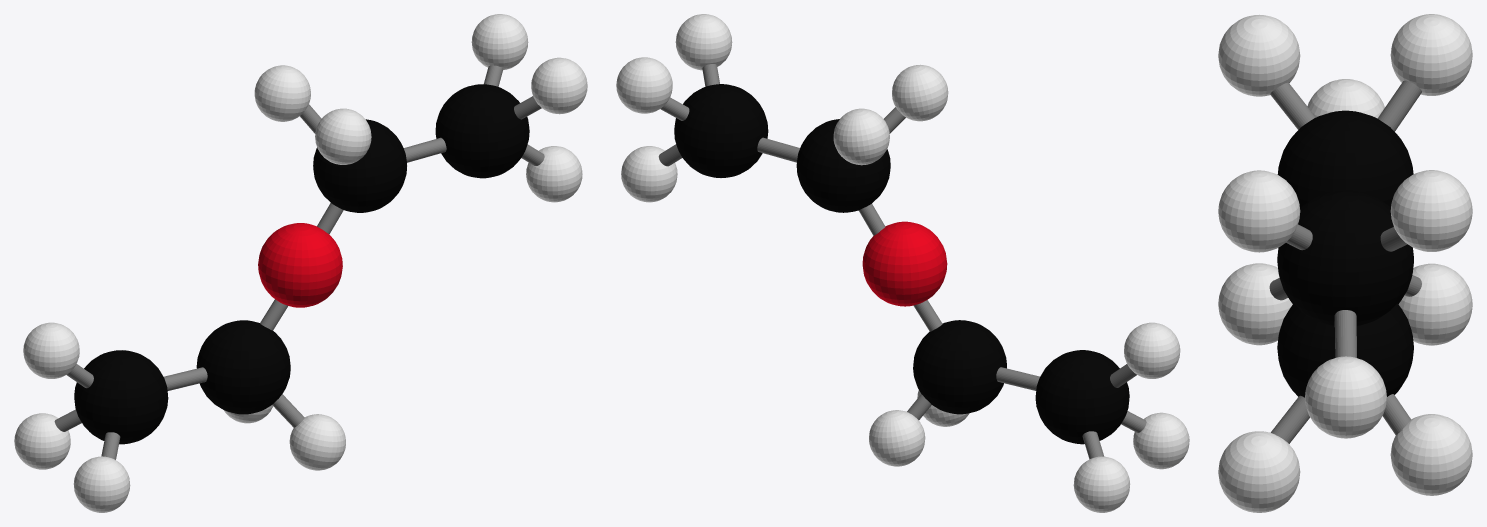
3 views of the same model, side by side, from view 1: azimuth 30°, elevation 25°; view 2: azimuth 150°, elevation 25°; view 3: azimuth 270°, elevation 25° (orthographic). The views are drawn at different scales.
Parts seen in each view (by area): view 1: углерод 1, Sphere.006, Sphere, кислород двойной.001, углерод 1.001, Sphere.010, Sphere.003, Sphere.011, Sphere.007, Sphere.001, Sphere.004, Sphere.008 (+4 smaller); view 2: углерод 1, Sphere.006, Sphere, кислород двойной.001, углерод 1.001, Sphere.008, Sphere.011, Sphere.003, Sphere.010, Sphere.005, Sphere.002, Sphere.007 (+4 smaller); view 3: Sphere.006, углерод 1.001, углерод 1, Sphere.009, Sphere.007, Sphere.008, Sphere.004, Sphere.005, Sphere.010, Sphere.011, Sphere.002, Sphere.001 (+8 smaller).
Boxes of the visible parts, left/top/right/bottom form: углерод 1: left=196, top=320, right=290, bottom=414; Sphere.006: left=435, top=84, right=529, bottom=178; Sphere: left=74, top=350, right=168, bottom=444; кислород двойной.001: left=258, top=223, right=342, bottom=307; углерод 1.001: left=313, top=119, right=406, bottom=212; Sphere.010: left=315, top=108, right=371, bottom=164; Sphere.003: left=23, top=322, right=79, bottom=378; Sphere.011: left=254, top=65, right=310, bottom=121; Sphere.007: left=531, top=57, right=587, bottom=114; Sphere.001: left=73, top=456, right=130, bottom=512; Sphere.004: left=289, top=414, right=345, bottom=470; Sphere.008: left=471, top=14, right=528, bottom=70; углерод 1: left=913, top=320, right=1006, bottom=414; Sphere.006: left=674, top=84, right=768, bottom=177; Sphere: left=1035, top=350, right=1129, bottom=444; кислород двойной.001: left=862, top=221, right=947, bottom=306; углерод 1.001: left=796, top=119, right=890, bottom=212; Sphere.008: left=616, top=57, right=672, bottom=113; Sphere.011: left=833, top=108, right=889, bottom=165; Sphere.003: left=1124, top=322, right=1180, bottom=378; Sphere.010: left=892, top=64, right=948, bottom=121; Sphere.005: left=869, top=410, right=925, bottom=466; Sphere.002: left=1073, top=456, right=1130, bottom=512; Sphere.007: left=675, top=14, right=732, bottom=70; Sphere.006: left=1277, top=190, right=1413, bottom=326; углерод 1.001: left=1277, top=110, right=1413, bottom=207; углерод 1: left=1277, top=303, right=1413, bottom=397; Sphere.009: left=1305, top=356, right=1386, bottom=438; Sphere.007: left=1218, top=170, right=1300, bottom=252; Sphere.008: left=1390, top=170, right=1472, bottom=251; Sphere.004: left=1218, top=431, right=1300, bottom=512; Sphere.005: left=1390, top=414, right=1472, bottom=495; Sphere.010: left=1218, top=14, right=1300, bottom=96; Sphere.011: left=1390, top=14, right=1472, bottom=95; Sphere.002: left=1398, top=263, right=1472, bottom=345; Sphere.001: left=1218, top=263, right=1292, bottom=345.
Size of the model in its own units: 6.76 by 4.1 by 1.86.
